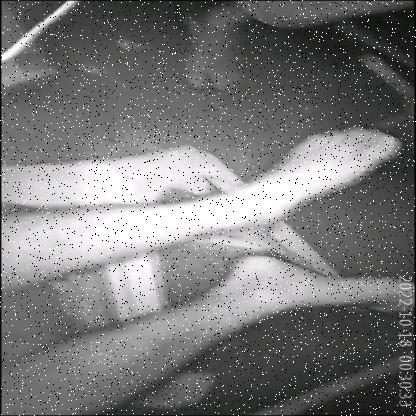leg: (0, 113, 408, 284), (20, 249, 416, 416), (160, 0, 265, 103)
